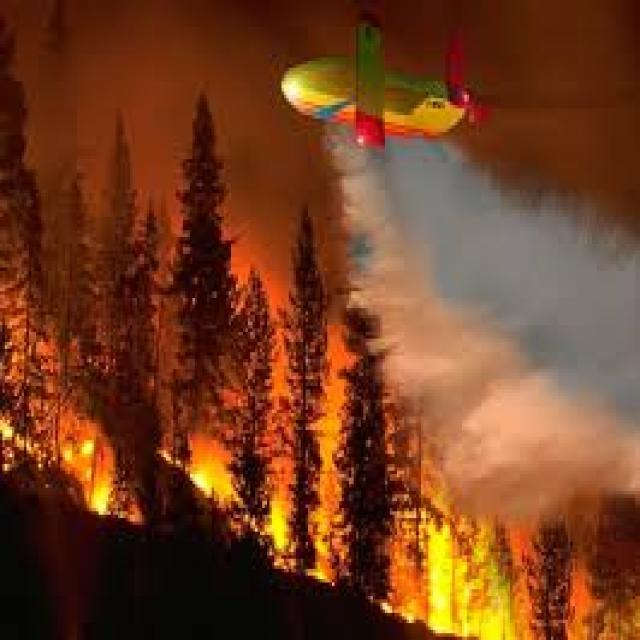Fire: (411, 513, 533, 640)
Smoke: (340, 150, 640, 484), (16, 0, 202, 193)
